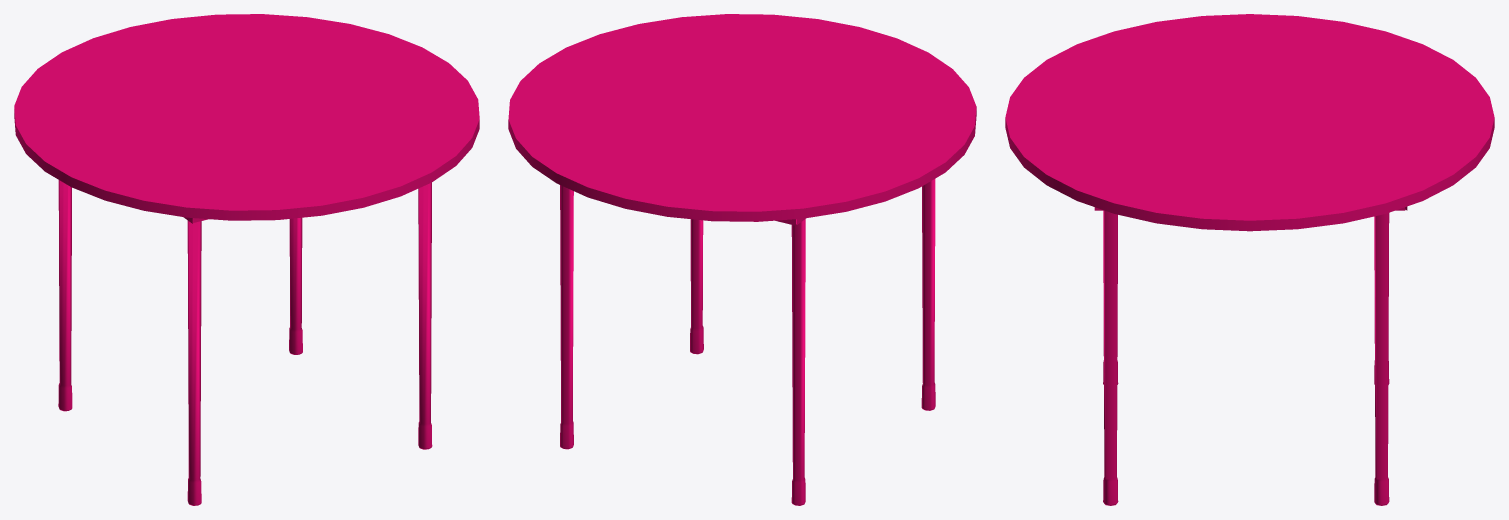
File: Table_03_Lod0.fbx
3 views of the same model, side by side, from view 1: azimuth 30°, elevation 25°; view 2: azimuth 150°, elevation 25°; view 3: azimuth 270°, elevation 25° (orthographic). The views are drawn at different scales.
Parts seen in each view (by area): view 1: Table_03_Lod0; view 2: Table_03_Lod0; view 3: Table_03_Lod0.
Boxes of the visible parts, x1,y1,x2,y2 form: Table_03_Lod0: [14, 14, 479, 505]; Table_03_Lod0: [508, 14, 976, 505]; Table_03_Lod0: [1005, 14, 1494, 505].
Size of the model in its own units: 98.57 by 73.05 by 98.57.
